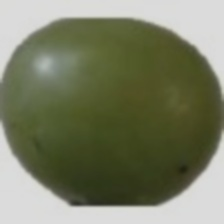grapes: (12, 41, 198, 212)
